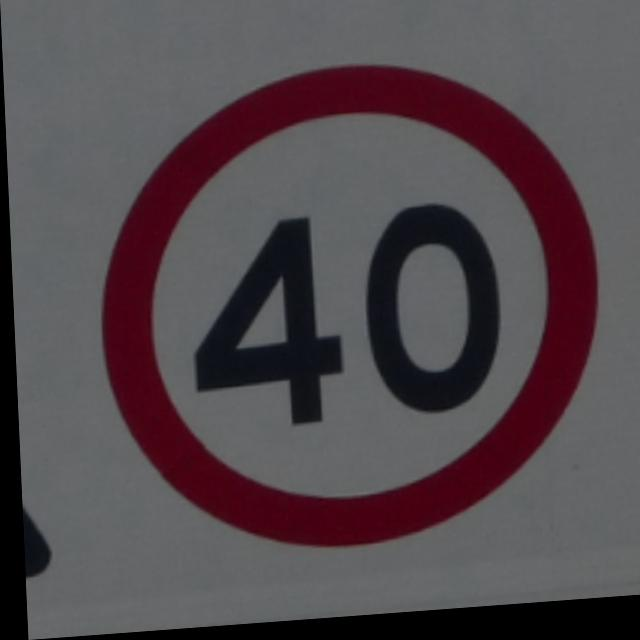limit40: (88, 50, 613, 570)
